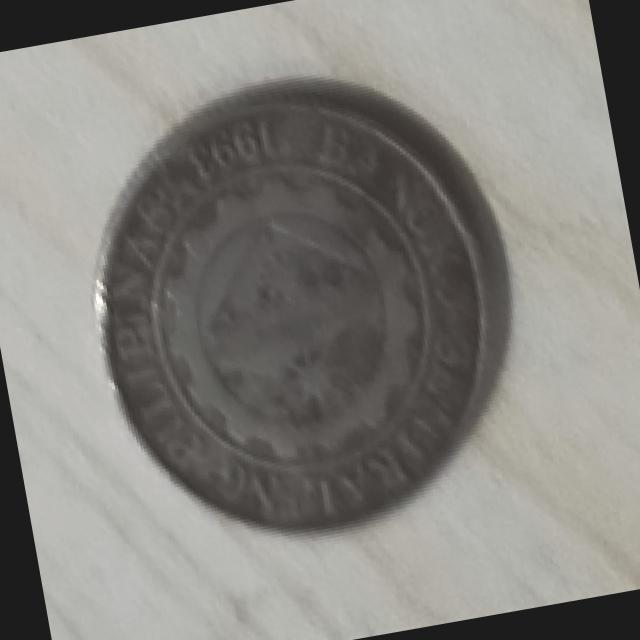1_peso: (95, 80, 506, 527)
